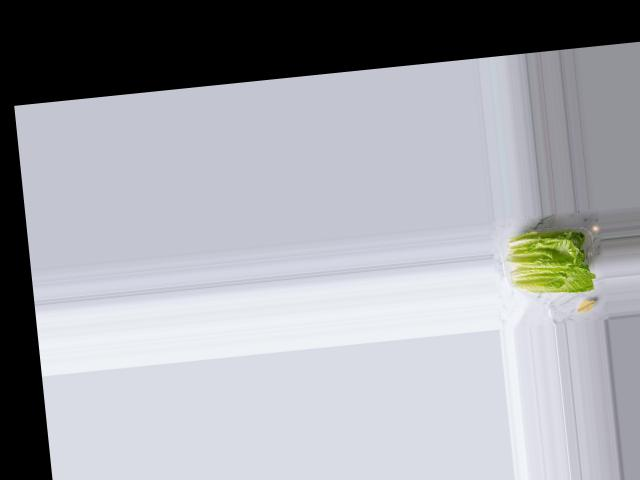lettuce: (503, 223, 598, 302)
